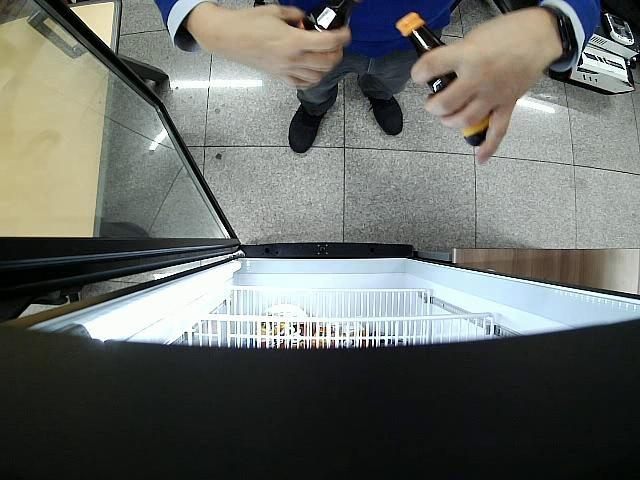17_vita500: (397, 13, 490, 145), (292, 2, 350, 32)
